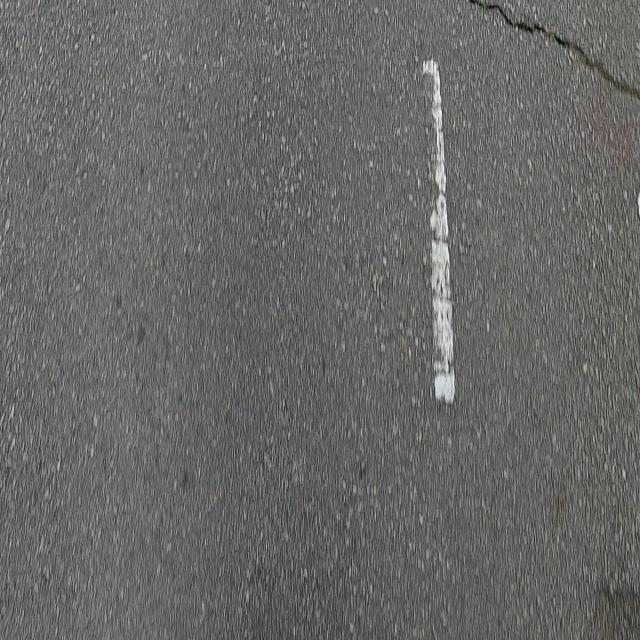Retak-Melintang: (469, 0, 639, 109)
